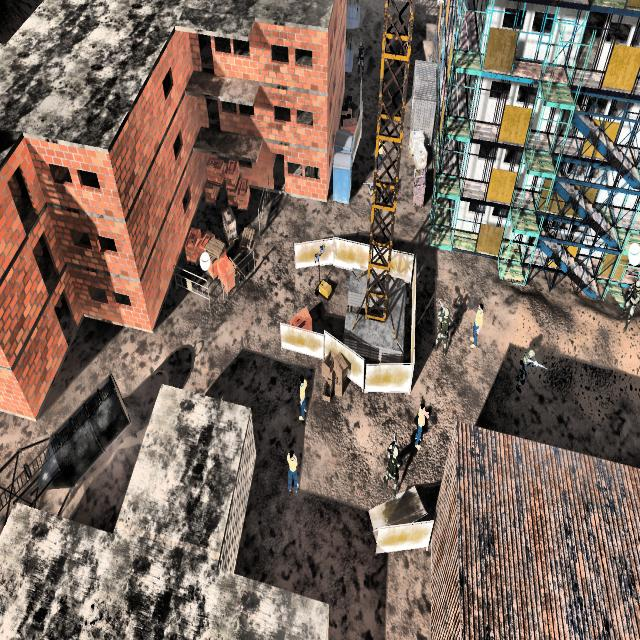bad: (514, 327, 540, 402), (433, 292, 454, 374), (620, 268, 640, 344), (382, 434, 403, 494)
good: (280, 441, 306, 500), (467, 288, 488, 359), (410, 395, 432, 457), (291, 372, 313, 430)
